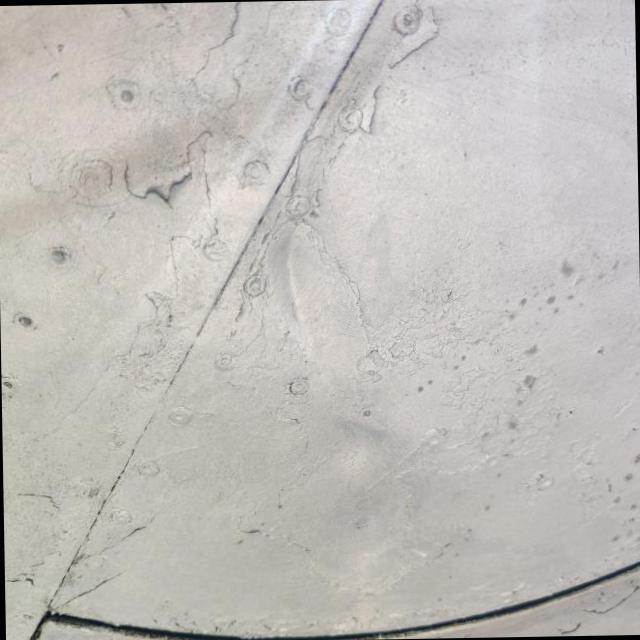Dent: (243, 202, 368, 370)
